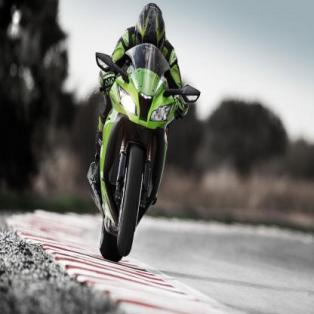Motocicleta: (90, 39, 198, 270)
